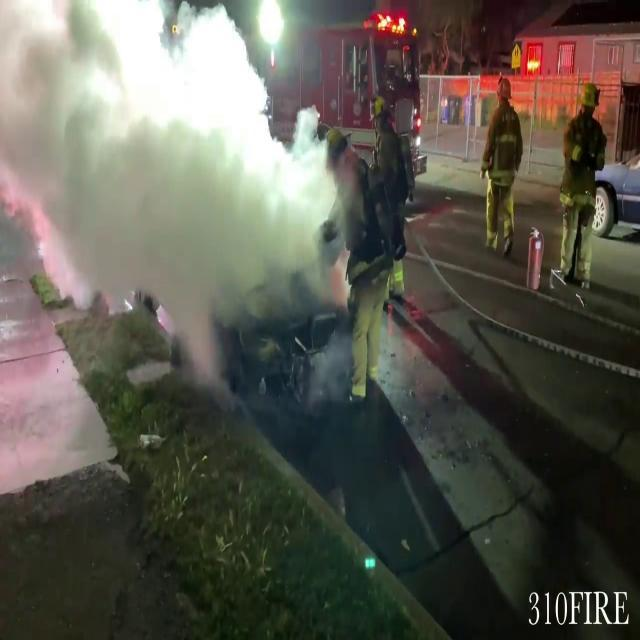Smoke: (0, 0, 348, 339), (85, 1, 348, 387)
